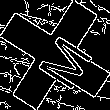M_NW: (21, 22, 89, 88)
